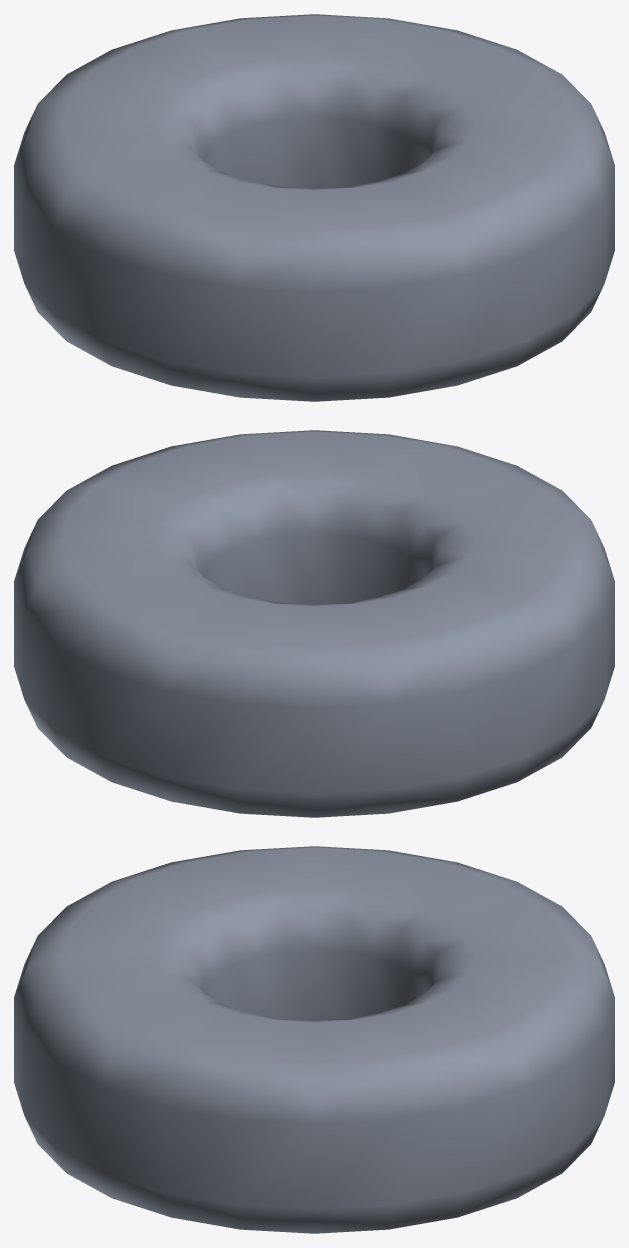
Rendered from Prop_DuctTape.glb.
3 renders of one model, top to bottom at view 1: azimuth 30°, elevation 25°; view 2: azimuth 150°, elevation 25°; view 3: azimuth 270°, elevation 25°, orthographic.
Parts seen in each view (by area): view 1: Prop_DuctTape.Roll; view 2: Prop_DuctTape.Roll; view 3: Prop_DuctTape.Roll.
Boxes of the visible parts, box(x1,y1,x2,y2) form: Prop_DuctTape.Roll: box(14, 14, 614, 401); Prop_DuctTape.Roll: box(14, 430, 614, 817); Prop_DuctTape.Roll: box(14, 846, 614, 1233).
Size of the model in its own units: 0.16 by 0.05 by 0.16.
1 material, 1 textured.
